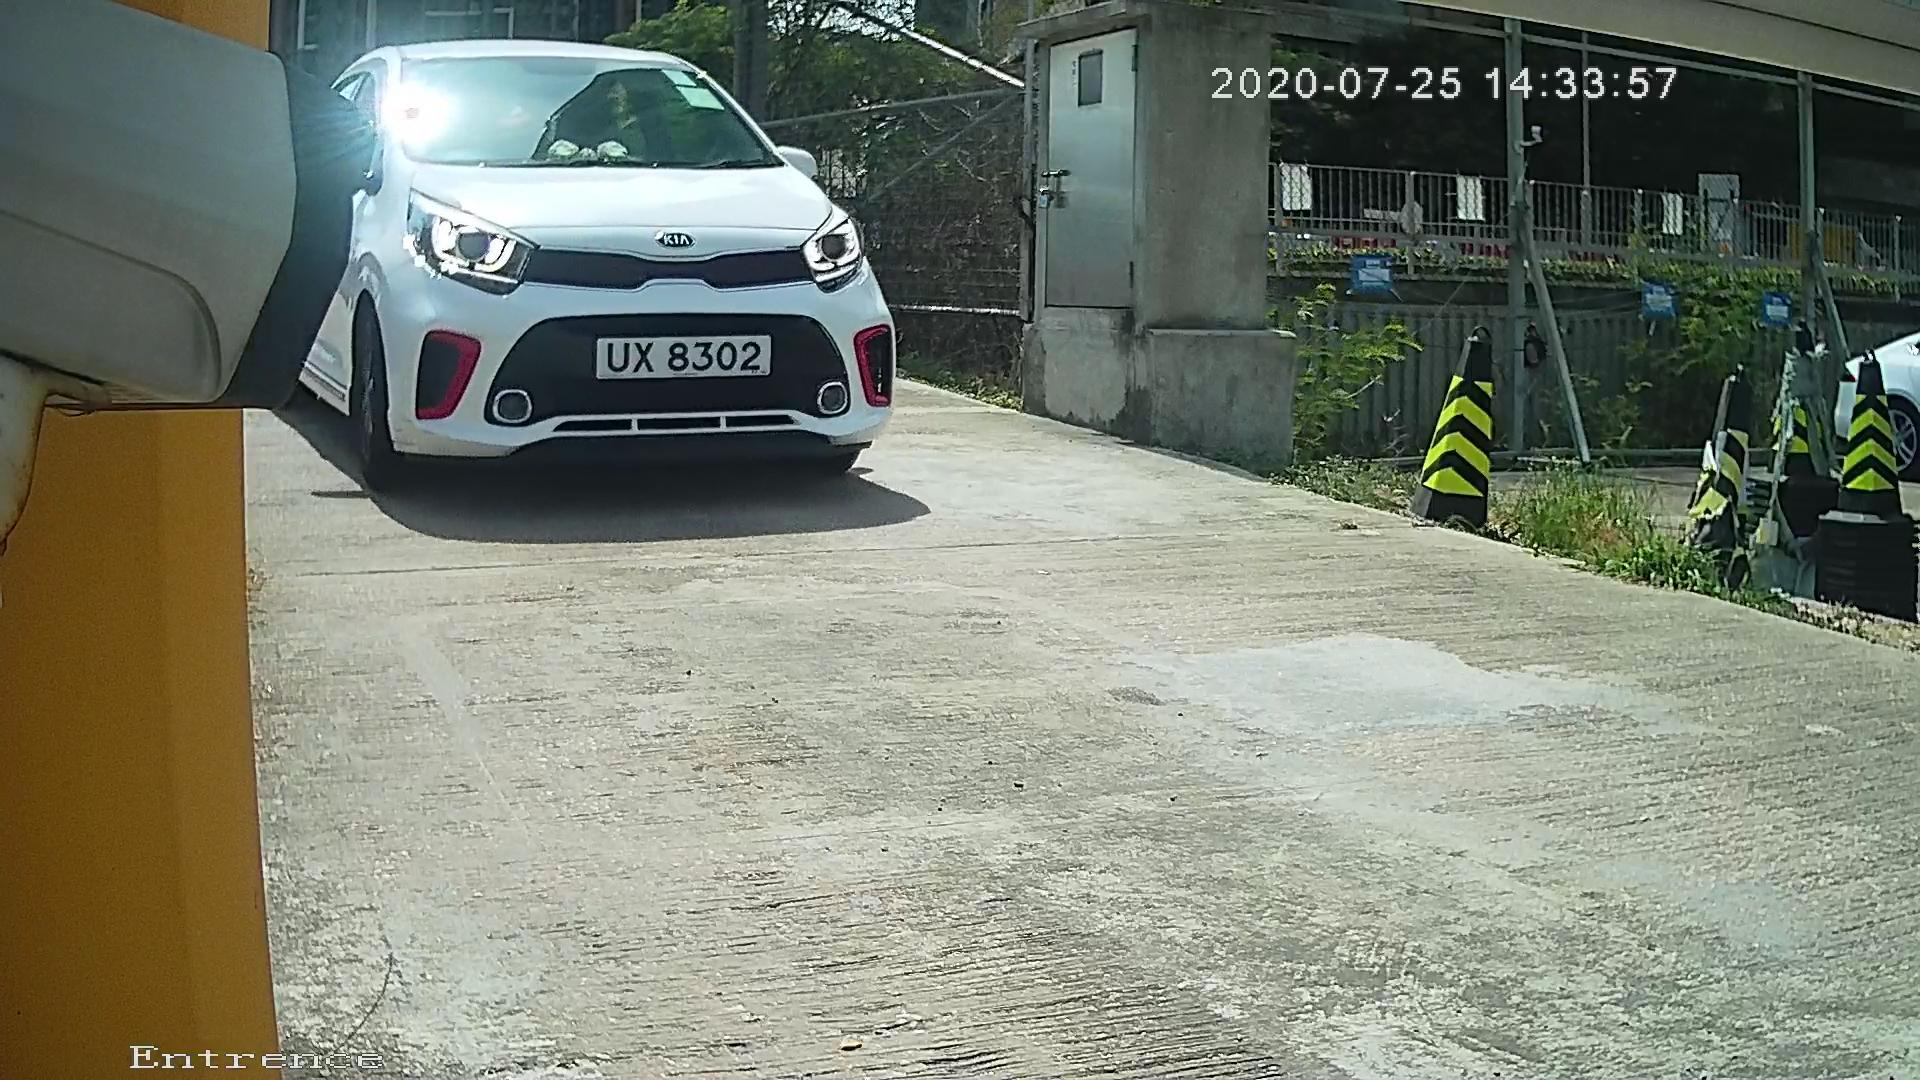Car: (241, 29, 926, 497)
License Plate: (584, 318, 791, 394)
